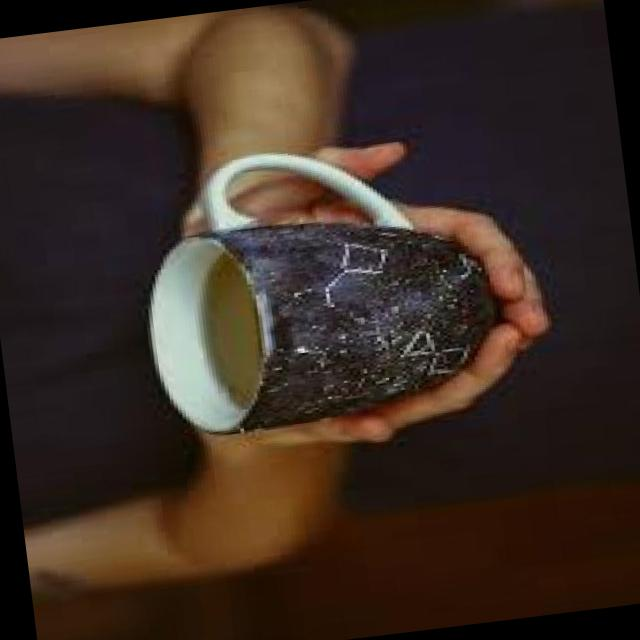Coffee Mug: (125, 124, 508, 440)
